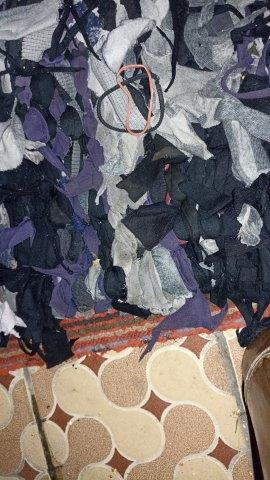karet: (96, 64, 166, 136)
